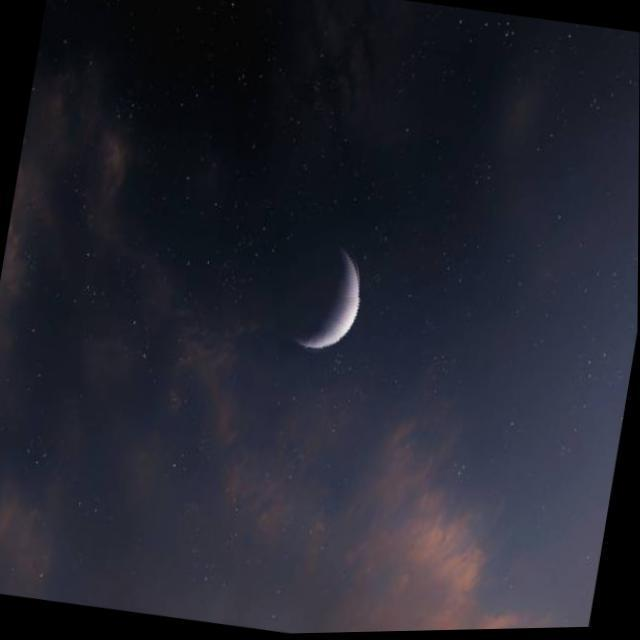moon: (253, 223, 377, 369)
